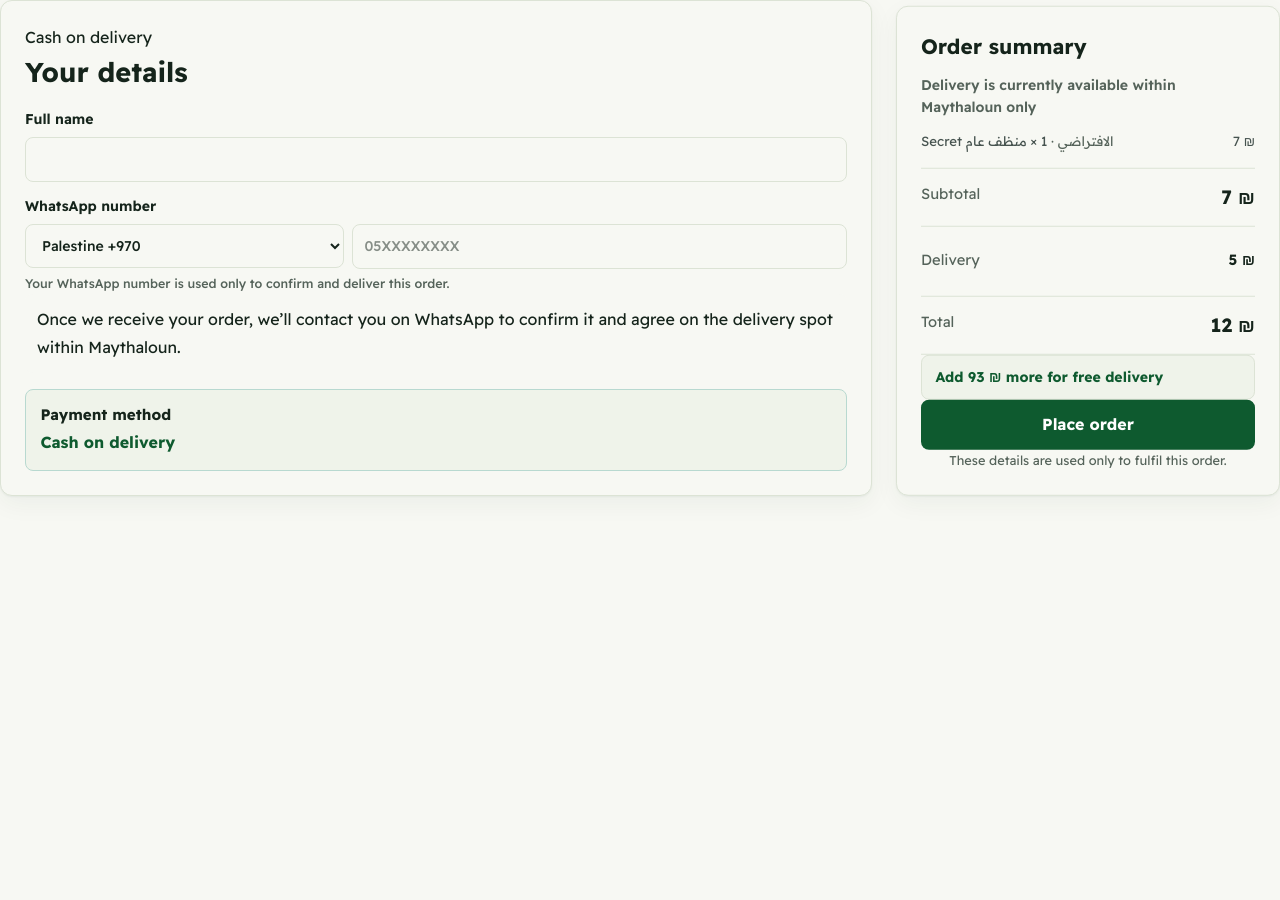
Test: checkout form in English › sends the locale header, shows English field errors and keeps the cart
Step 1. Type "Test Customer" into the field labelled "Full name" → (436,159), box [25,136,847,182]
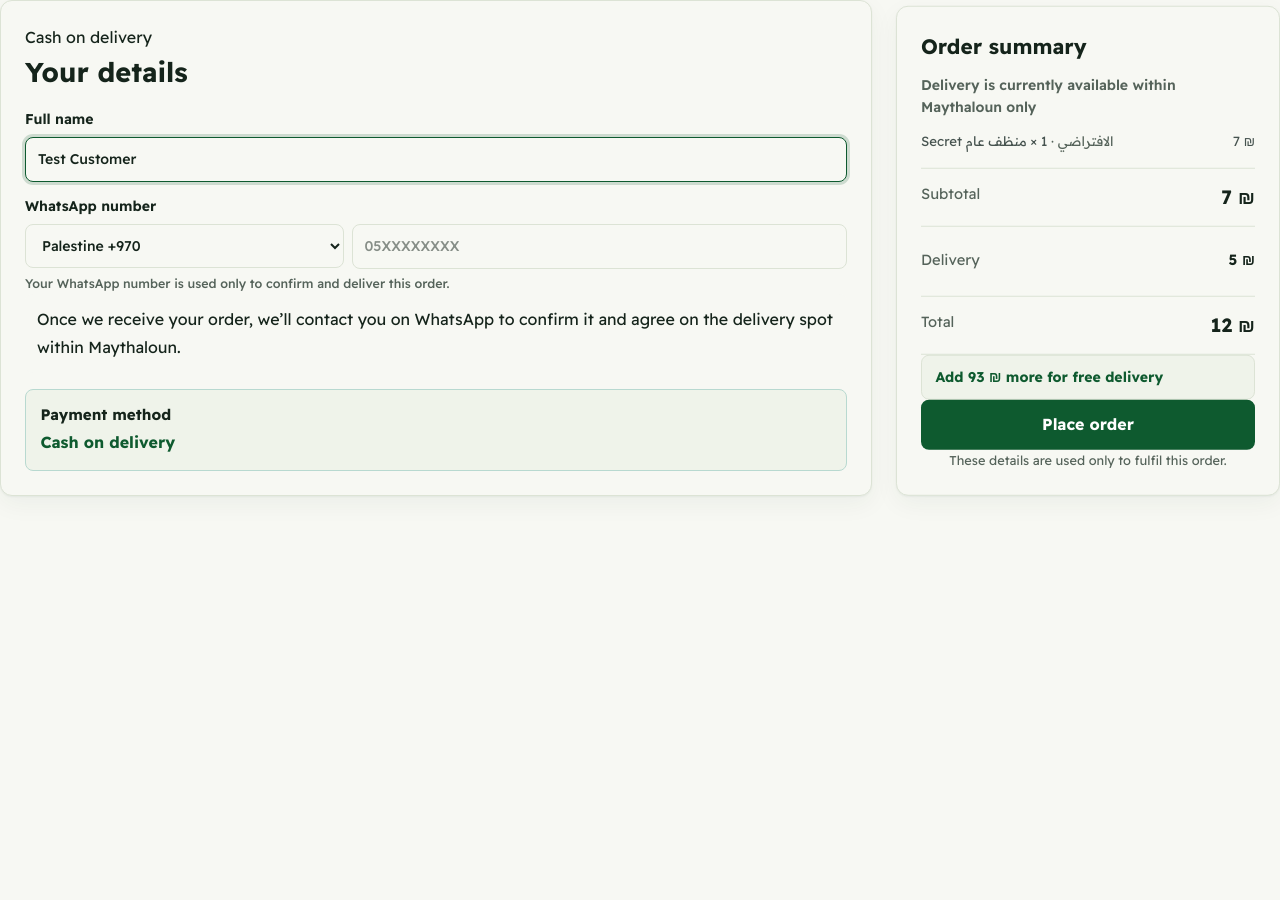
Step 2. Type "0591234567" into the field named "Local number" → (599,246), box [352,224,847,269]
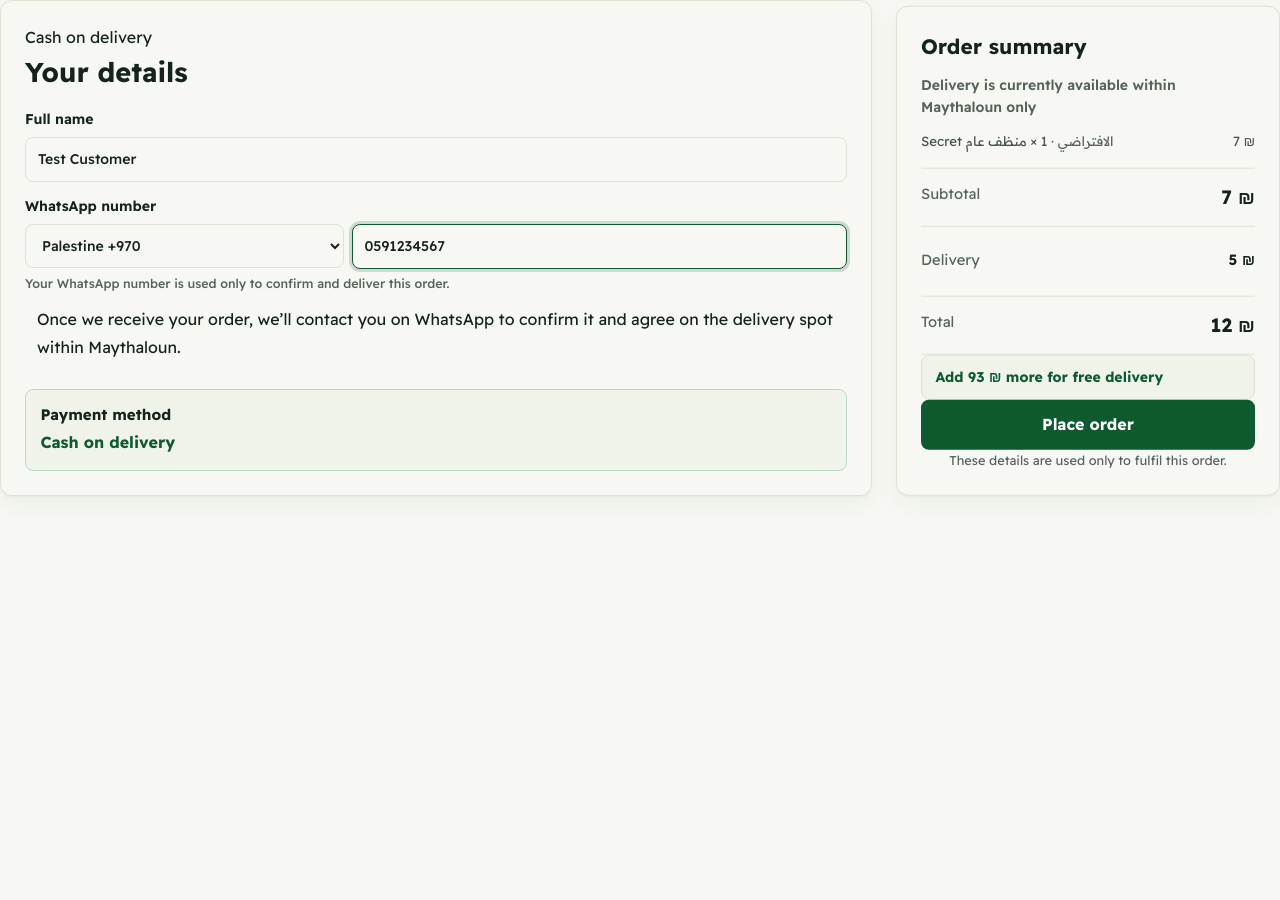
Step 3. Click the button "Place order" → (1088,425), box [921,400,1255,449]
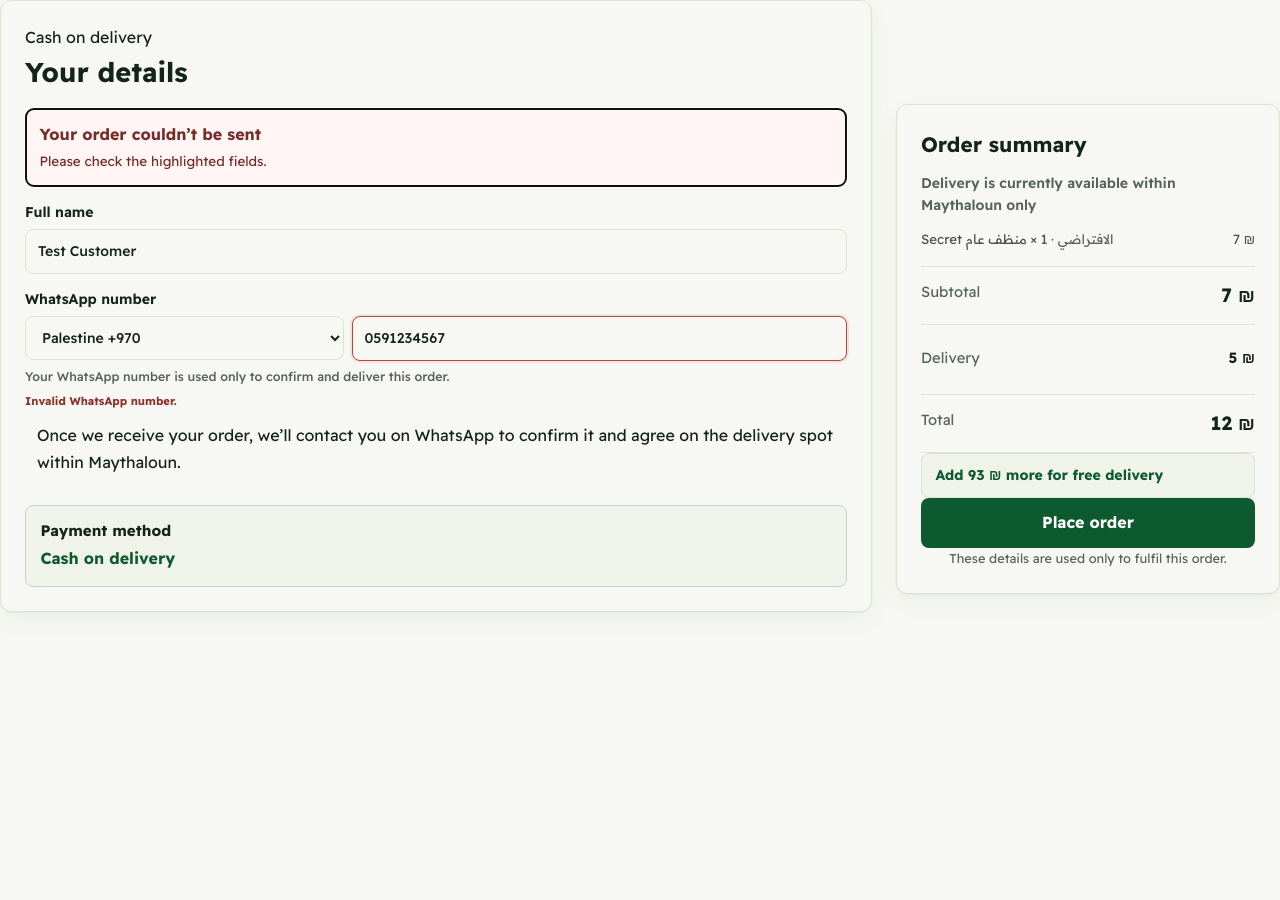
Expected: the text "منظف عام Secret" is shown, [921,231,1027,247]
Now the message "Your order couldn’t be sent Please check the highlighted fields." is shown, box [25,108,847,187]
Now the text "Invalid WhatsApp number." is shown, box [25,394,177,408]
